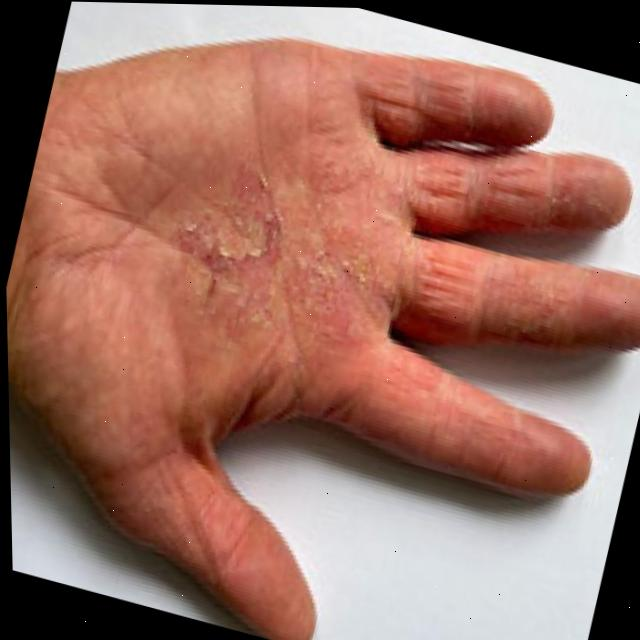Eczema: (103, 141, 393, 373), (442, 132, 640, 325)
